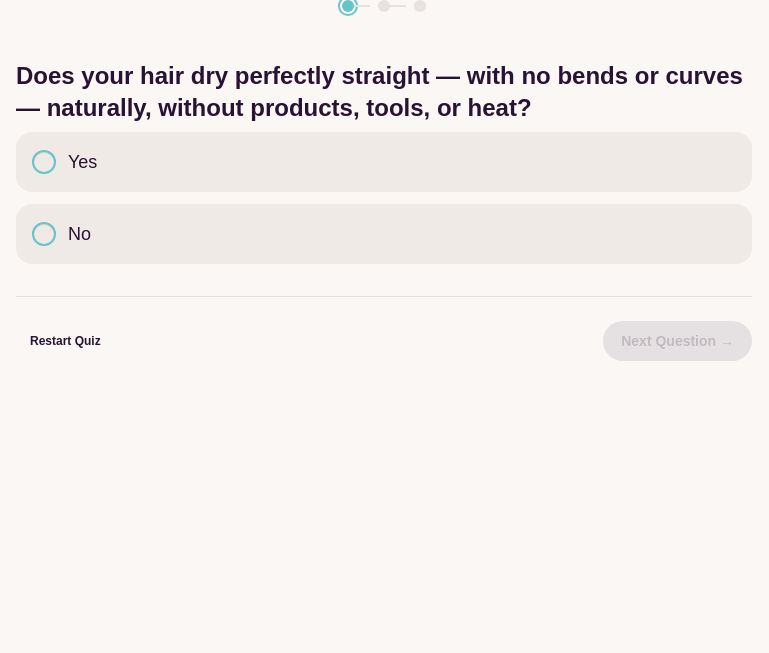
Test case: NewQuiz Component › Quiz flow - Coils path › Coils path asks for elongation
Expected: the heading "Does your hair dry perfectly straight" is shown, [16,62,743,121]
Click the radio button labelled "No": (44,234) [32,222,56,246]
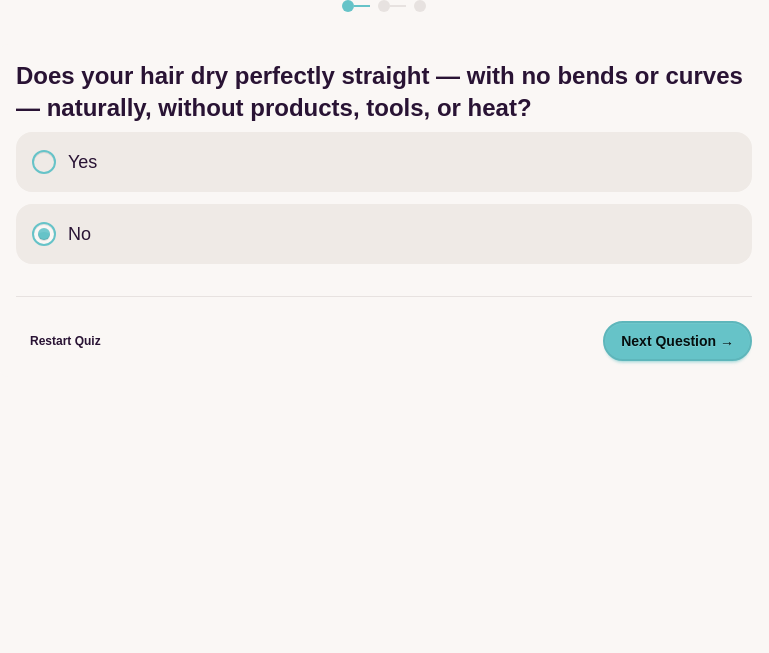
Click the button "Next Question →": (678,341) [603,321,752,361]
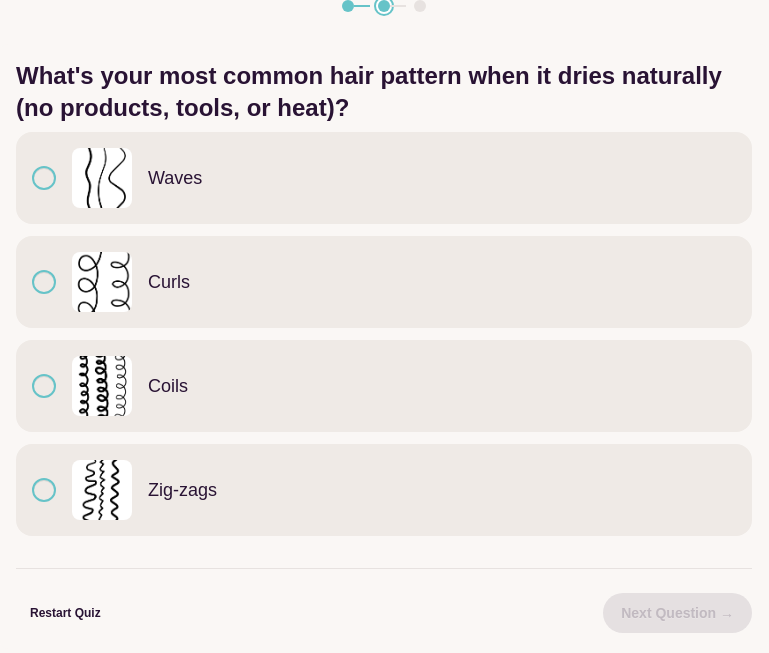
Expected: the heading "What's your most common hair pattern" is shown, [16,62,722,121]
Click the radio button labelled "Coils": (44,386) [32,374,56,398]
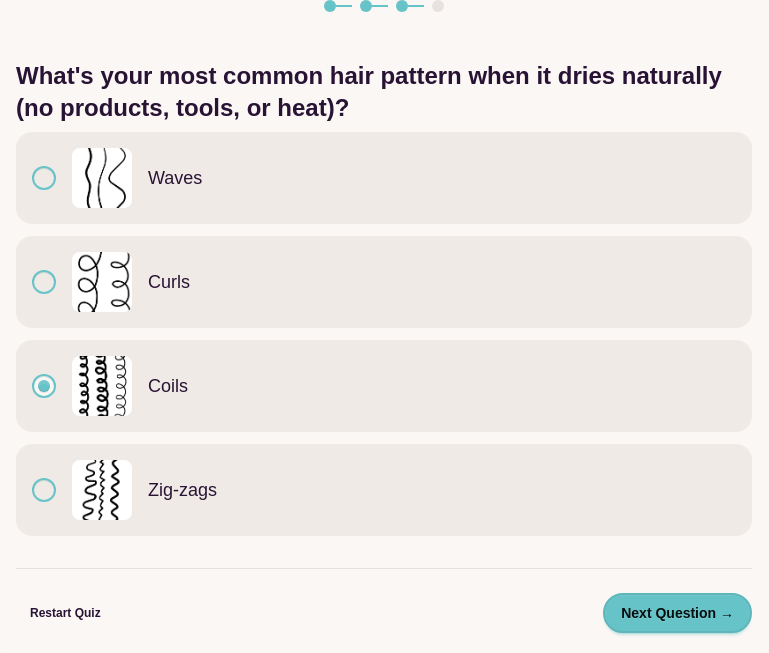
Click the button "Next Question →": (678,613) [603,593,752,633]
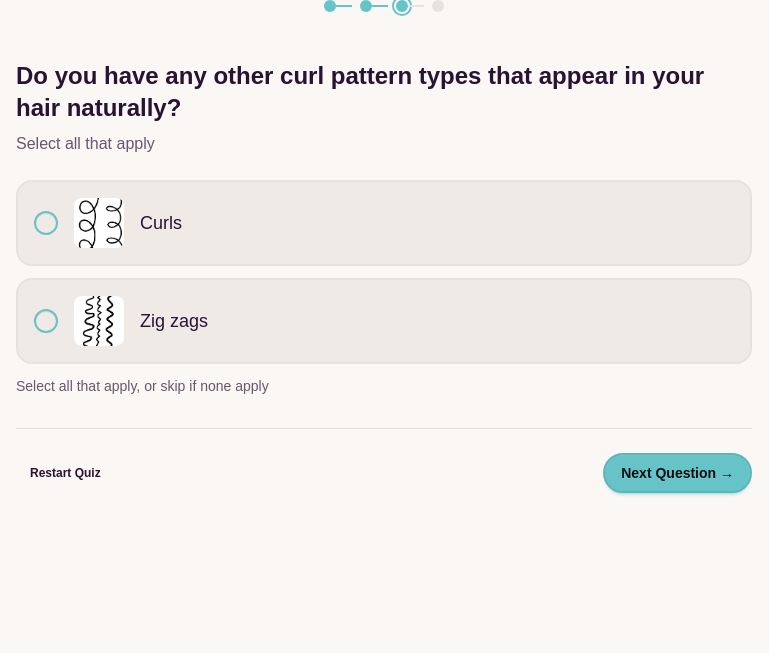
Expected: the heading "Do you have any other curl pattern types" is shown, [16,62,704,121]
Click the button "Next Question →": (678,473) [603,453,752,493]
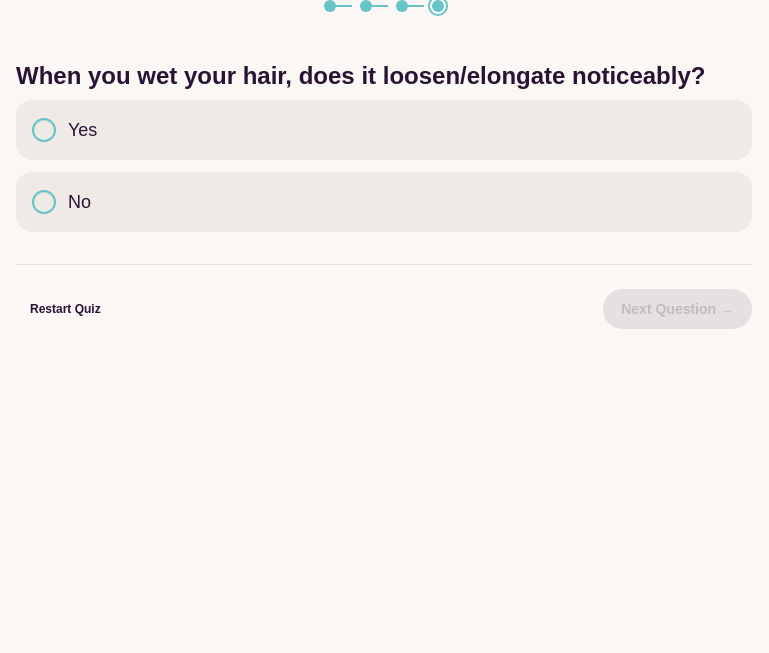
Expected: the heading "When you wet your hair, does it loosen/elongate noticeably?" is shown, [16,60,752,92]
